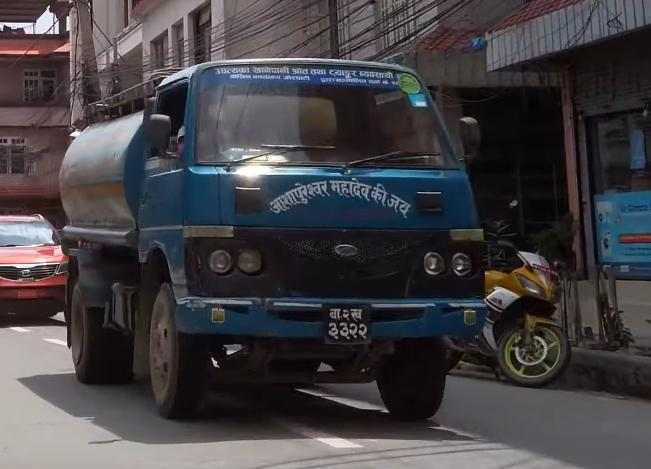bike: (463, 238, 594, 402)
car: (0, 189, 82, 337)
mini_truck: (55, 59, 492, 438)
